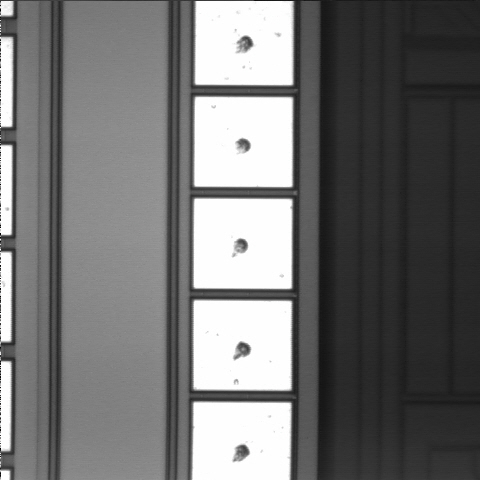pad: (194, 97, 293, 187), (194, 199, 292, 289), (194, 300, 291, 390)
